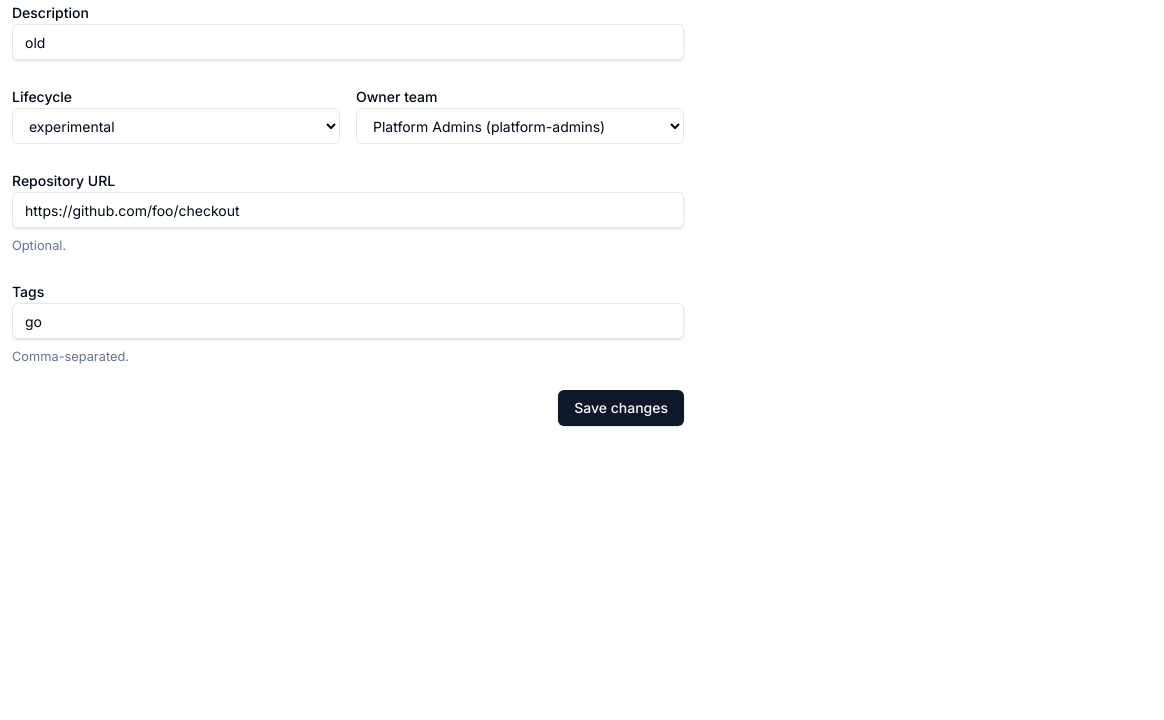
Scenario: ServiceEditForm › submits PATCH with idempotency-key, refreshes route, shows toast
Replace the text in the field labelled "Description" with "new" at (348, 42), box [12, 24, 684, 60]
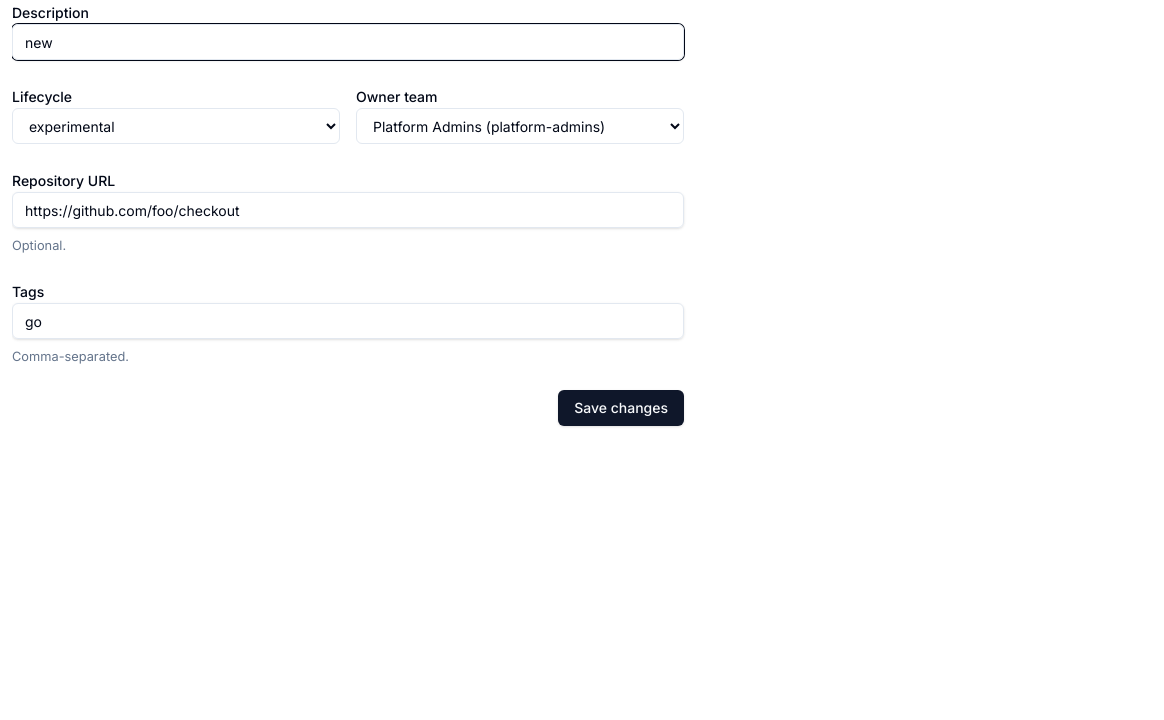
Select "production" in the dropdown labelled "Lifecycle" at (176, 126), box [12, 108, 340, 144]
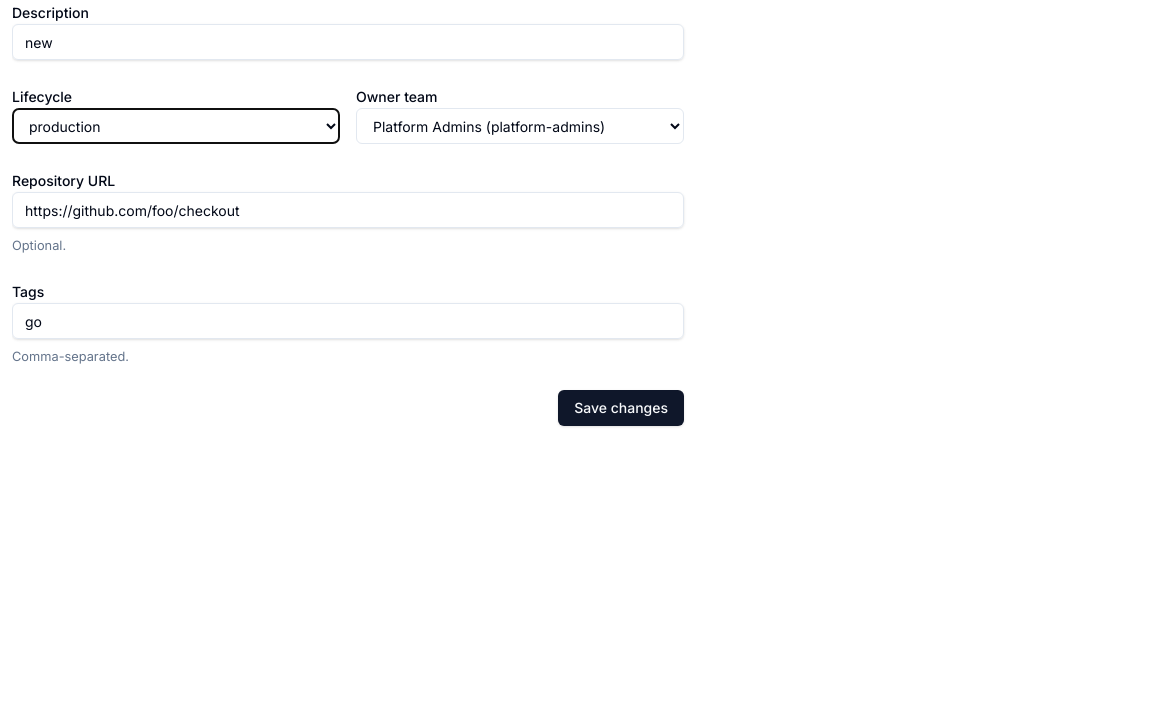
Click the button "Save changes" at (621, 408), box [558, 390, 684, 426]
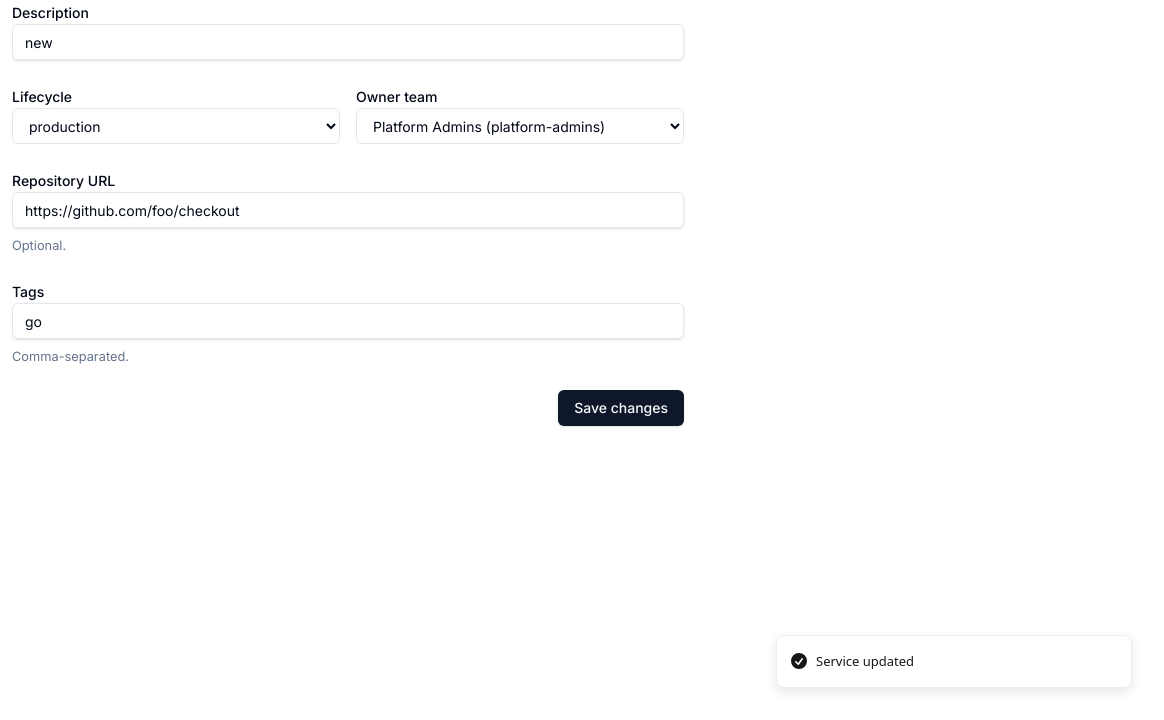
Result: the text "Service updated" is shown at [816, 652, 914, 671]
